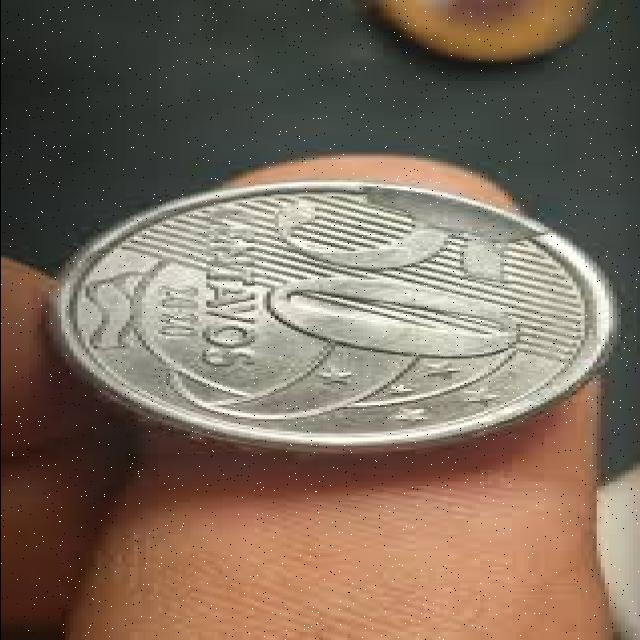50 cent: (48, 184, 618, 456)
